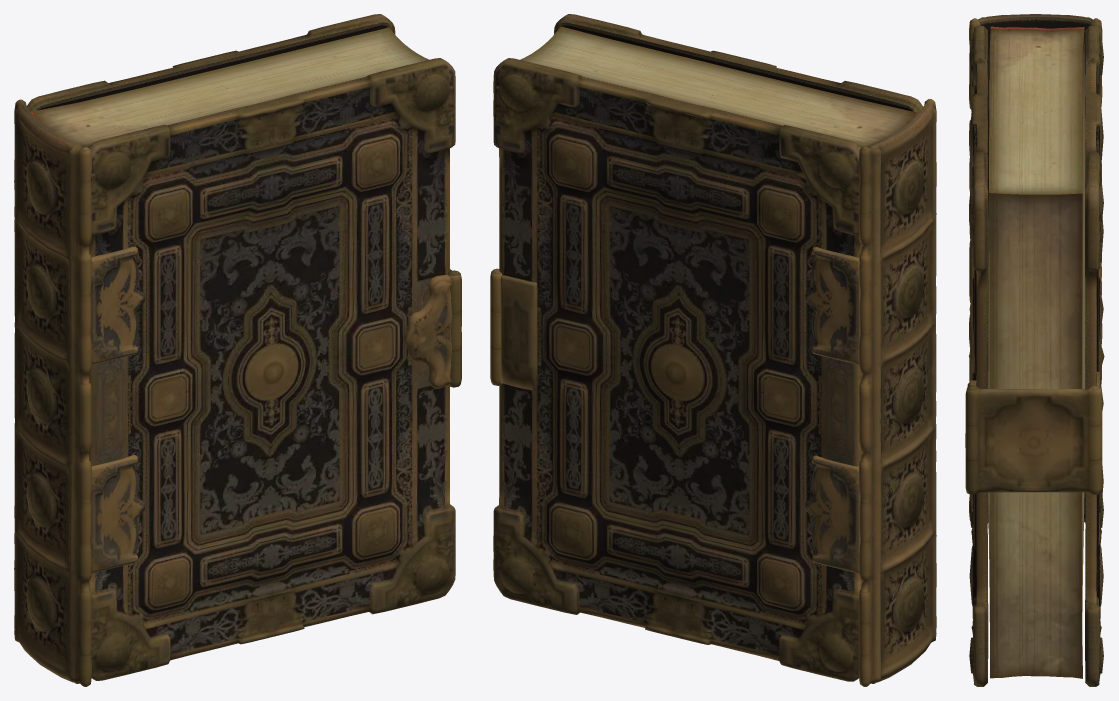
The model's file is Ornate_Book.glb.
3 renders of one model, left to right at view 1: azimuth 30°, elevation 25°; view 2: azimuth 150°, elevation 25°; view 3: azimuth 270°, elevation 25°, orthographic. The views are drawn at different scales.
Visible parts, largest first — view 1: Ornate_Book; view 2: Ornate_Book; view 3: Ornate_Book.
Boxes of the visible parts, x1,y1,x2,y2 form: Ornate_Book: (14,14,461,686); Ornate_Book: (490,14,936,686); Ornate_Book: (965,14,1104,686).
Size of the model in its own units: 0.3027 by 0.4 by 0.0997.
1 material, 1 textured.
